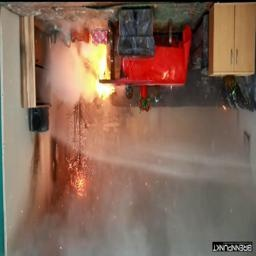fire: (91, 51, 120, 105)
smoke: (39, 30, 86, 110)
